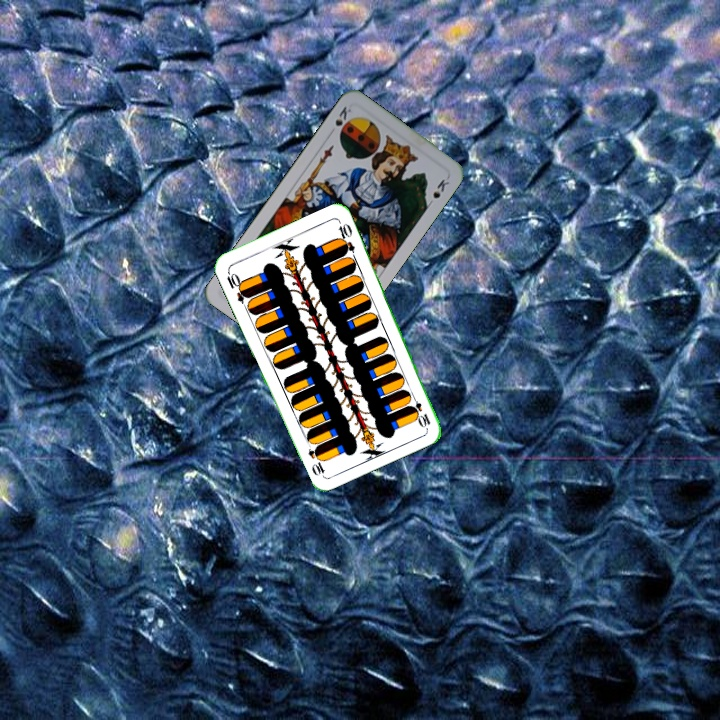E10: (222, 267, 251, 305), (406, 391, 433, 430)
SK: (325, 102, 354, 138)
